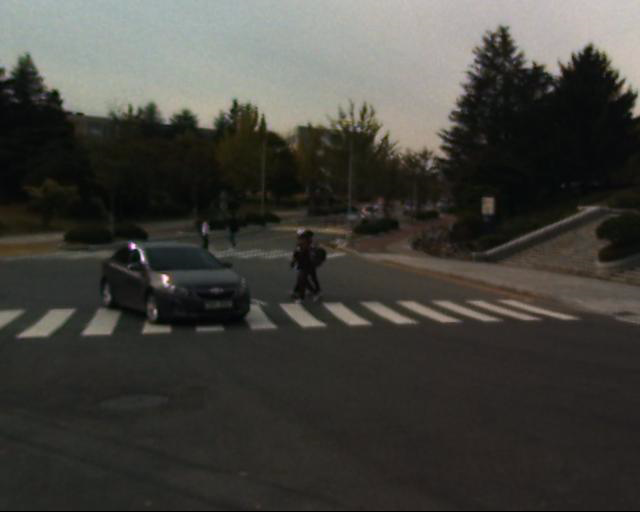person: (276, 225, 335, 306), (195, 217, 215, 256), (225, 212, 245, 251)
